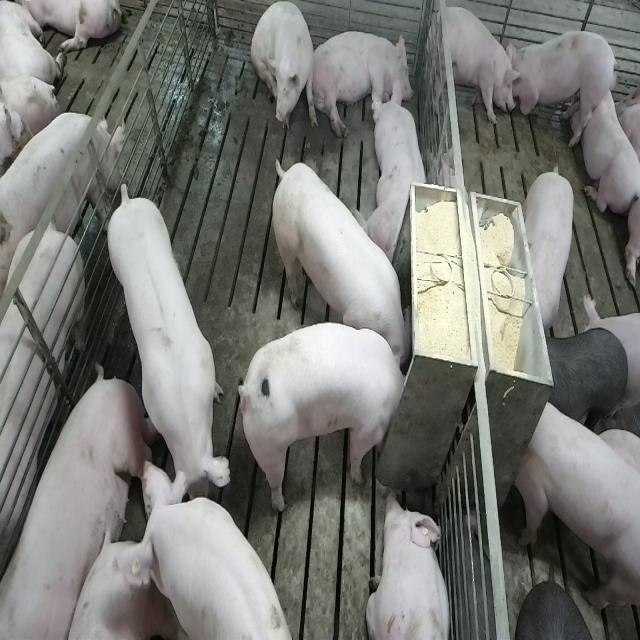Feeding: (244, 322, 416, 516), (267, 156, 411, 364)
Lateral_lying: (3, 365, 156, 640), (309, 29, 415, 140)
Sitting: (252, 3, 317, 139)
Standing: (106, 181, 233, 516), (0, 221, 87, 623), (132, 465, 292, 640), (515, 394, 638, 618), (0, 107, 123, 285), (510, 28, 616, 147), (430, 4, 519, 131), (524, 161, 578, 330), (545, 326, 629, 427)
Sternal_lying: (366, 490, 453, 640), (362, 81, 431, 261), (580, 78, 639, 216)
